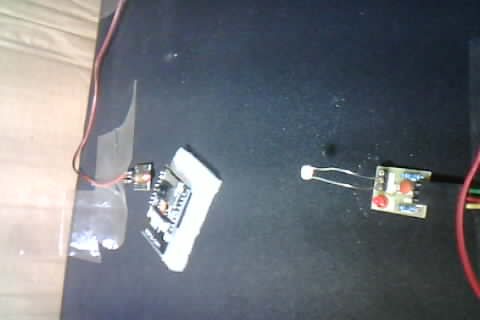esp32: (140, 150, 209, 264)
